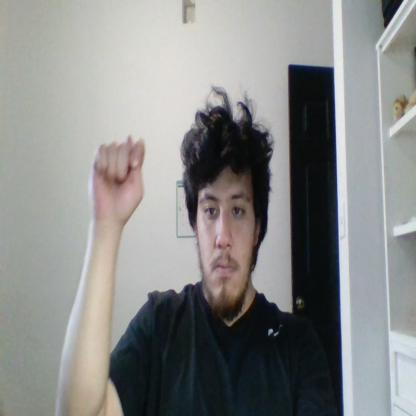T: (90, 133, 146, 222)
